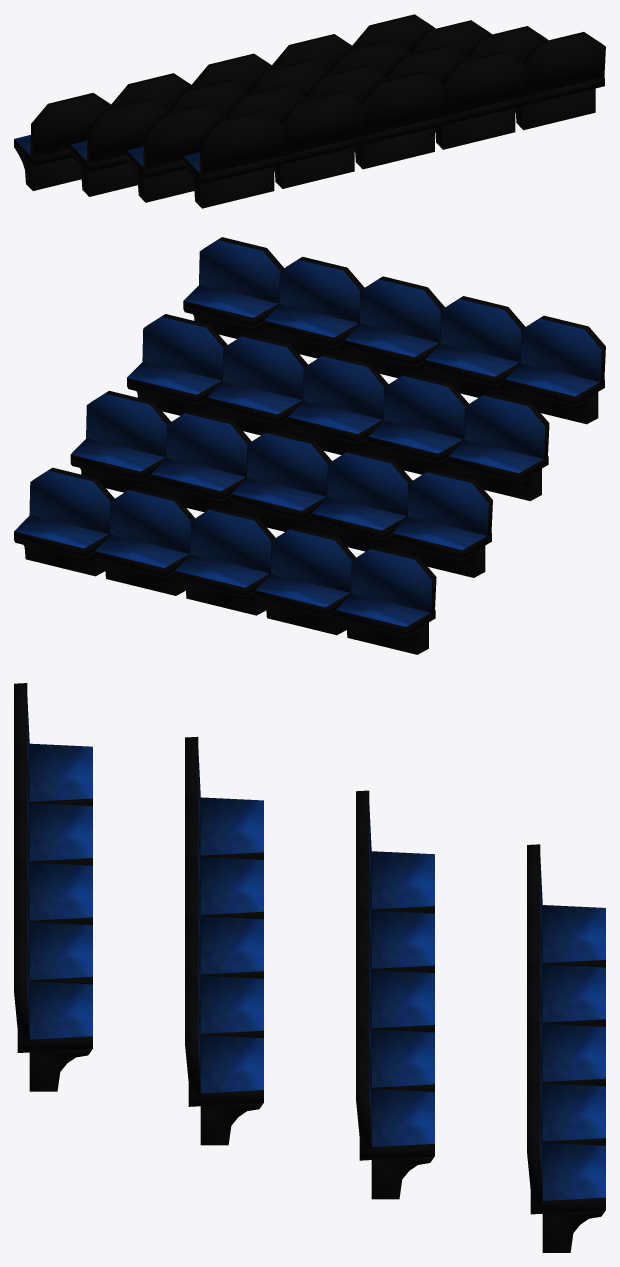
File: ARC0610001.fbx
3 views of the same model, one above another, from view 1: azimuth 30°, elevation 25°; view 2: azimuth 150°, elevation 25°; view 3: azimuth 270°, elevation 25° (orthographic). The views are drawn at different scales.
Visible parts, largest first — view 1: smARC0610001; view 2: smARC0610001; view 3: smARC0610001.
Part boxes in pixels (bbox=[...]): smARC0610001: bbox=[14, 14, 605, 208]; smARC0610001: bbox=[14, 237, 605, 654]; smARC0610001: bbox=[14, 683, 605, 1252].
Bounding box in the file's own units: 592 × 269 × 498.
Materials: 1 (1 with a texture image).
